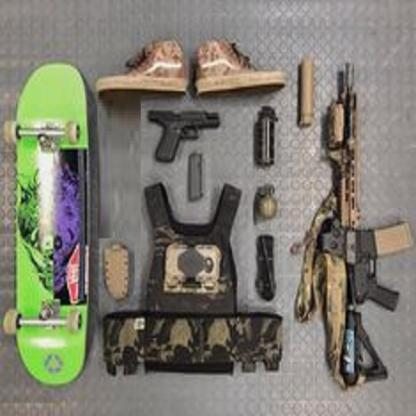Grenade: (254, 102, 279, 167), (251, 182, 279, 227)
Gun: (295, 62, 414, 390)
Pistol: (144, 108, 221, 164)
